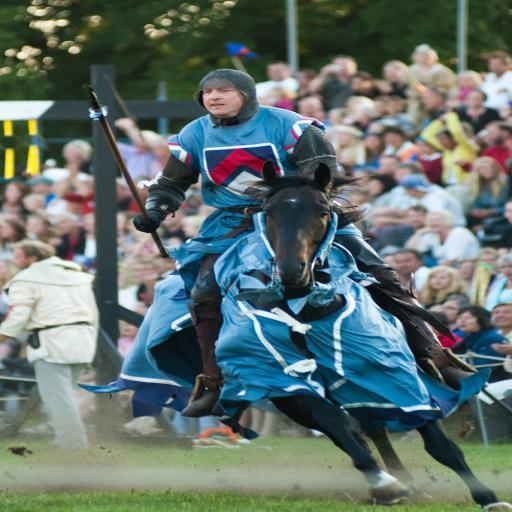horse: (180, 158, 512, 510)
